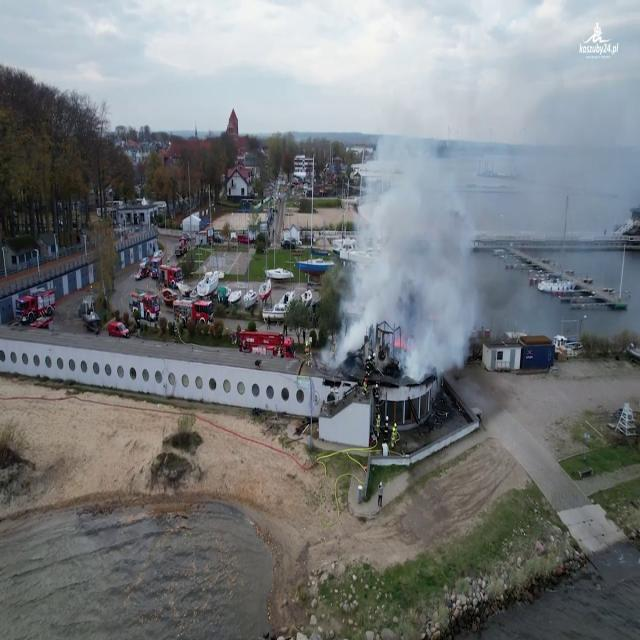Smoke: (330, 51, 544, 388)
